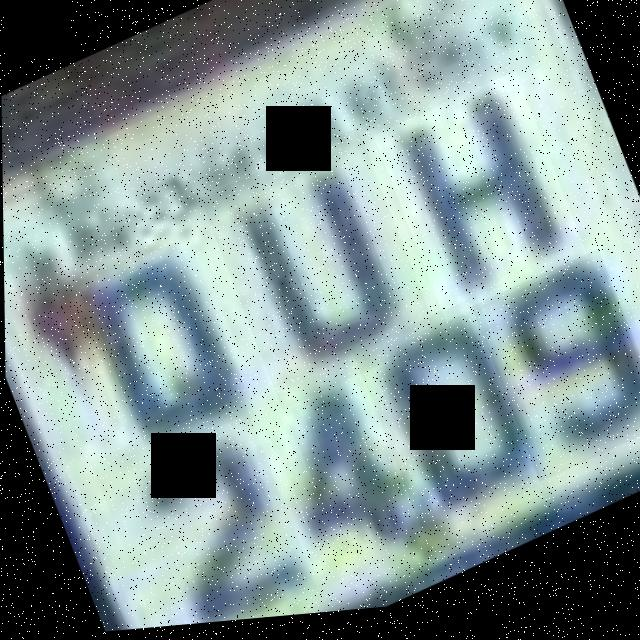0: (350, 299, 546, 546)
2: (89, 394, 314, 634)
4: (228, 350, 432, 604)
9: (470, 256, 640, 496)
H: (372, 75, 588, 335)
O: (57, 208, 248, 463)
U: (199, 128, 439, 420)
